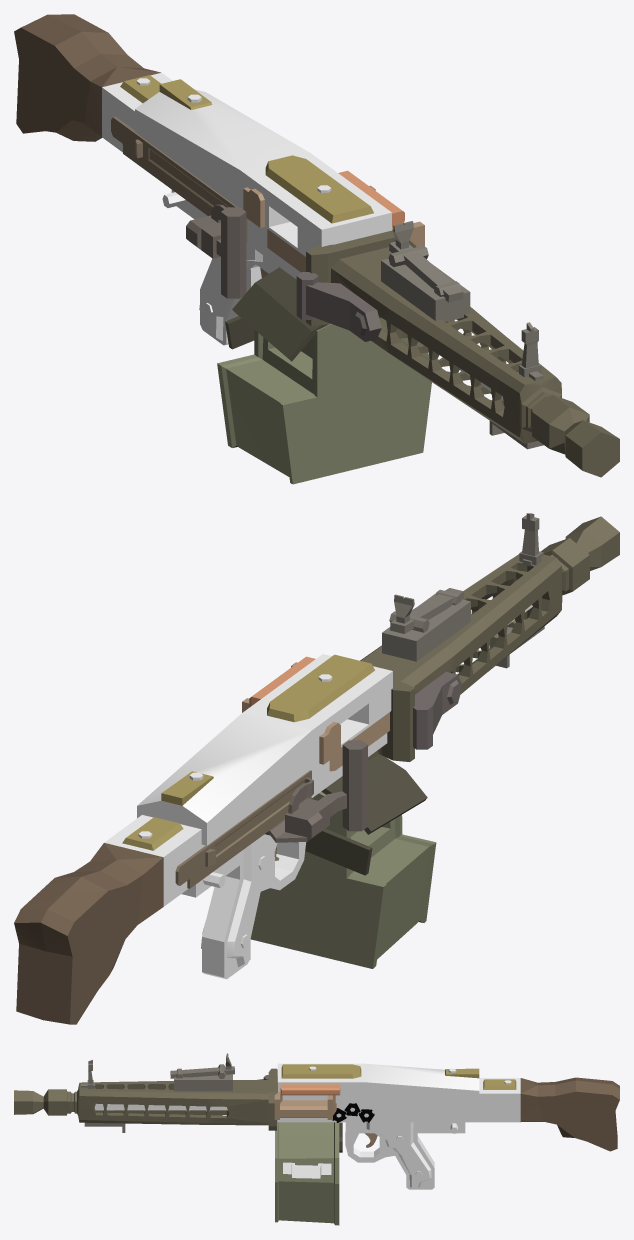
The model's file is LMG.fbx.
The picture shows the model from 3 angles, top to bottom: view 1: azimuth 30°, elevation 25°; view 2: azimuth 150°, elevation 25°; view 3: azimuth 270°, elevation 25°; orthographic projection. The views are drawn at different scales.
Parts seen in each view (by area): view 1: LMG; view 2: LMG; view 3: LMG.
Boxes of the visible parts, <box> form: LMG: <box>14,14,619,484</box>; LMG: <box>14,513,619,1024</box>; LMG: <box>14,1053,619,1225</box>.
Bounding box in the file's own units: 16.83 × 25.27 × 91.77.
